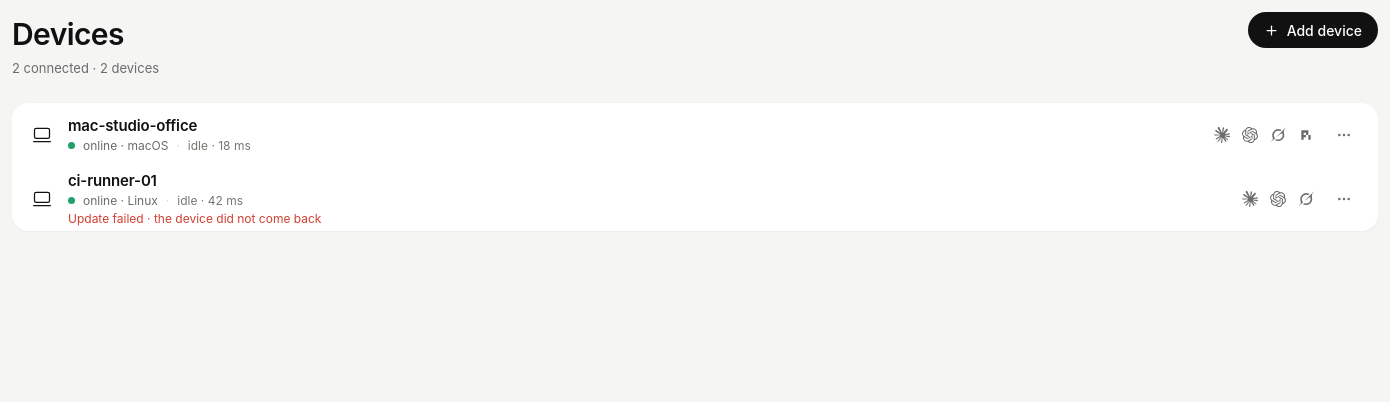
Test case: the Retry update item › is disabled while the gateway serves no wheel, and says why
Step 1. Click the button named "Open menu" in the row of "Linux" → click(1344, 198), box [1330,184,1358,212]
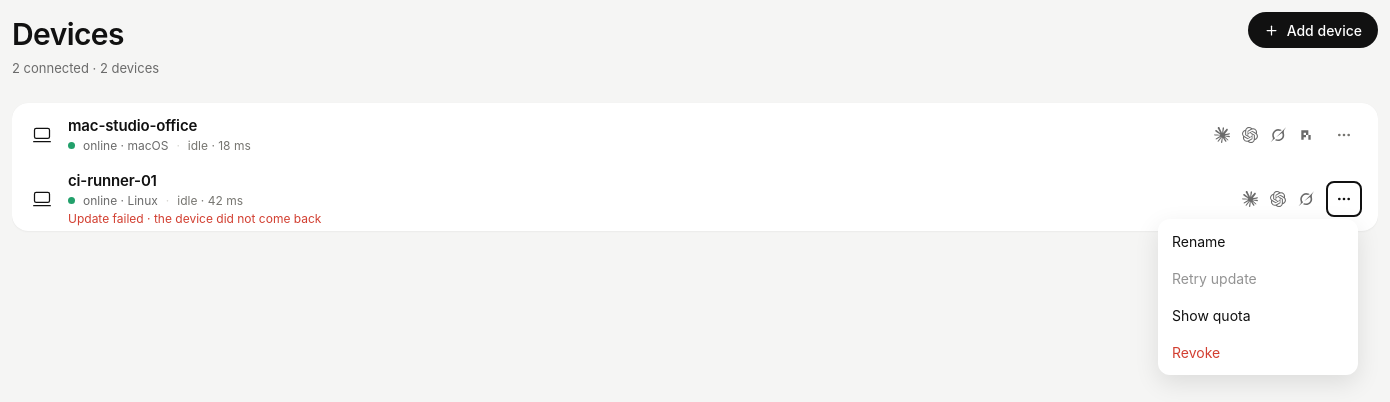
Now the menu item "Retry update" is disabled, box [1162,260,1354,297]
